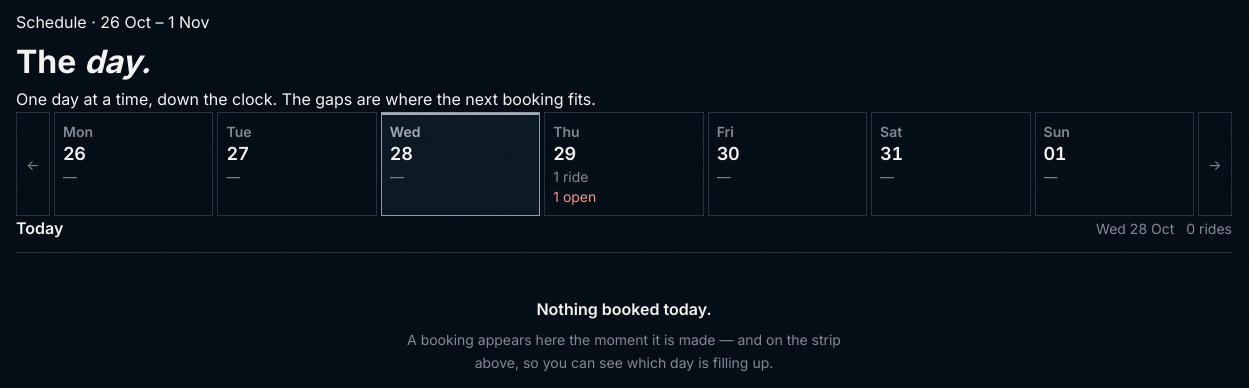
it: the schedule › walks to another day and says which one it is
expect the text "Nothing booked today." is shown: met, box [536,299,712,319]
Click the button "Thu 29 1 ride 1 open".
click(624, 164)  # box [544,112,704,216]
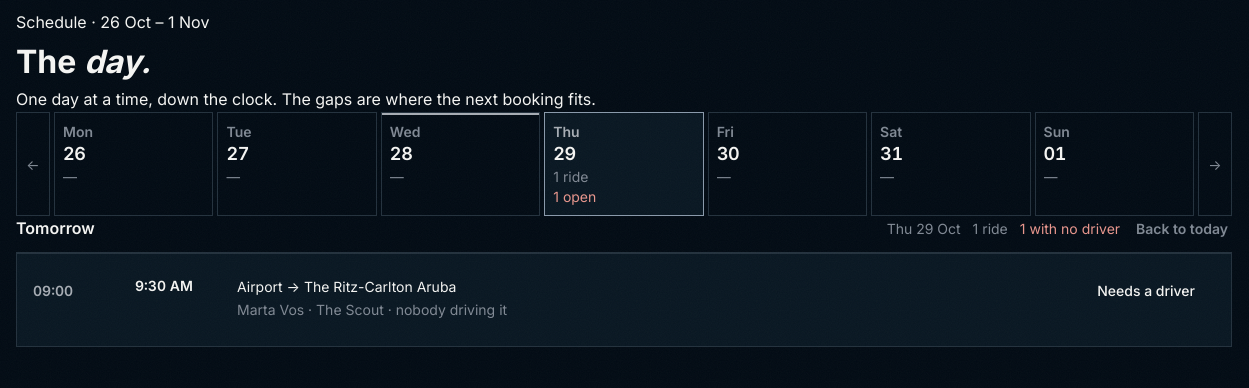
expect the heading "Tomorrow" is shown: met, box [16,216,95,242]
